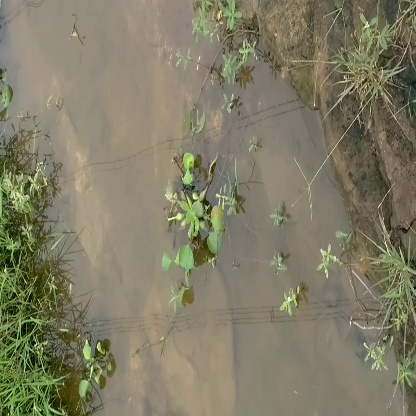leaf: (164, 151, 229, 249)
